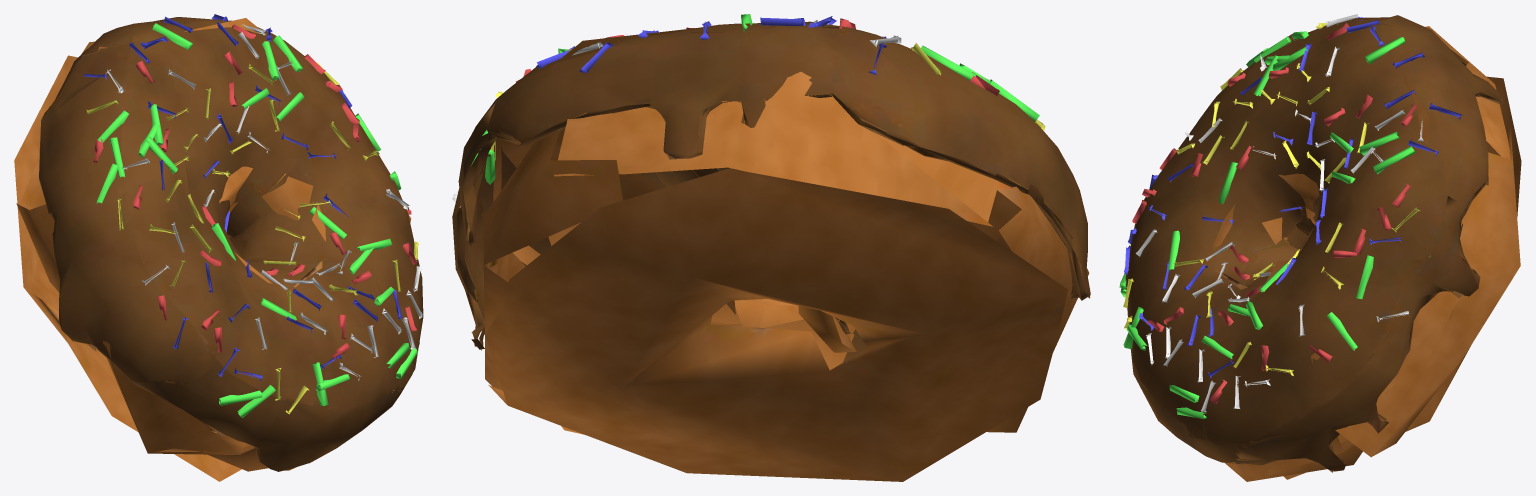
File: donut.glb
3 views of the same model, side by side, from view 1: azimuth 30°, elevation 25°; view 2: azimuth 150°, elevation 25°; view 3: azimuth 270°, elevation 25° (orthographic). The views are drawn at different scales.
Parts seen in each view (by area): view 1: Object_10; view 2: Object_10; view 3: Object_10.
Boxes of the visible parts, box(x1,y1,x2,y2) form: Object_10: box(14, 14, 423, 481); Object_10: box(452, 14, 1090, 481); Object_10: box(1119, 14, 1521, 481).
Bounding box in the file's own units: 0.1097 × 0.1011 × 0.0936.
Materials: 7 (2 with a texture image).
